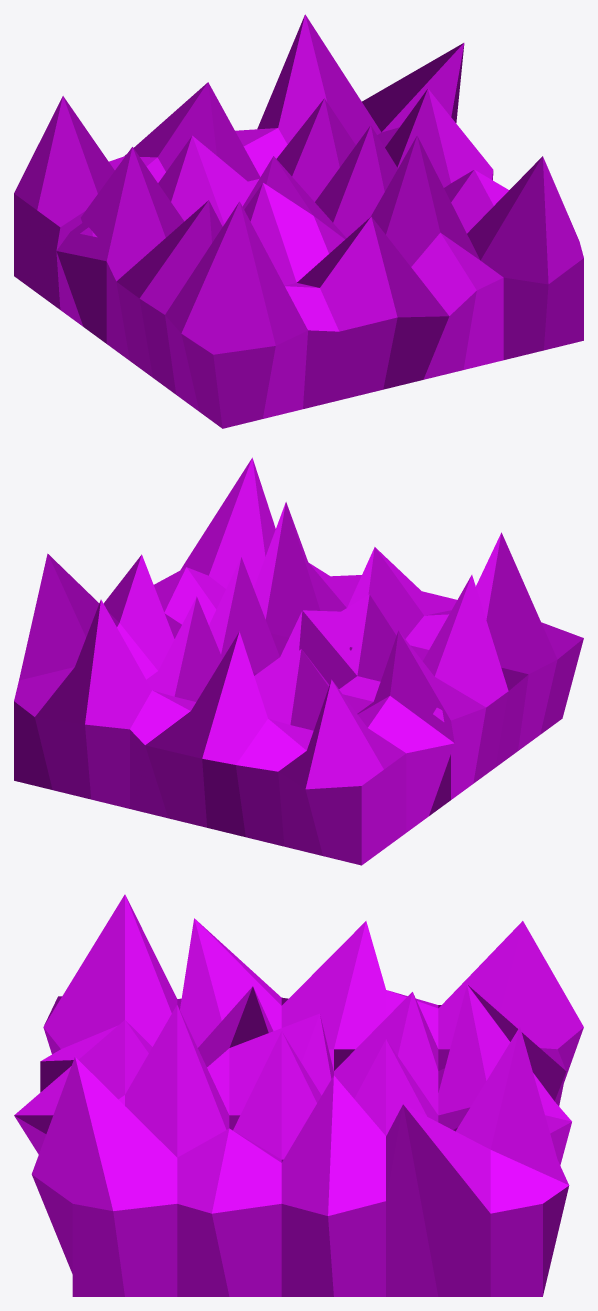
File: spikes.fbx
3 views of the same model, one above another, from view 1: azimuth 30°, elevation 25°; view 2: azimuth 150°, elevation 25°; view 3: azimuth 270°, elevation 25° (orthographic). The views are drawn at different scales.
Visible parts, largest first — view 1: cuboid; view 2: cuboid; view 3: cuboid.
Part boxes in pixels (box(x1,y1,x2,y2)): cuboid: box(14, 14, 583, 428); cuboid: box(14, 457, 583, 865); cuboid: box(14, 894, 583, 1296).
Size of the model in its own units: 115 by 53.12 by 121.
1 material, 1 textured.
